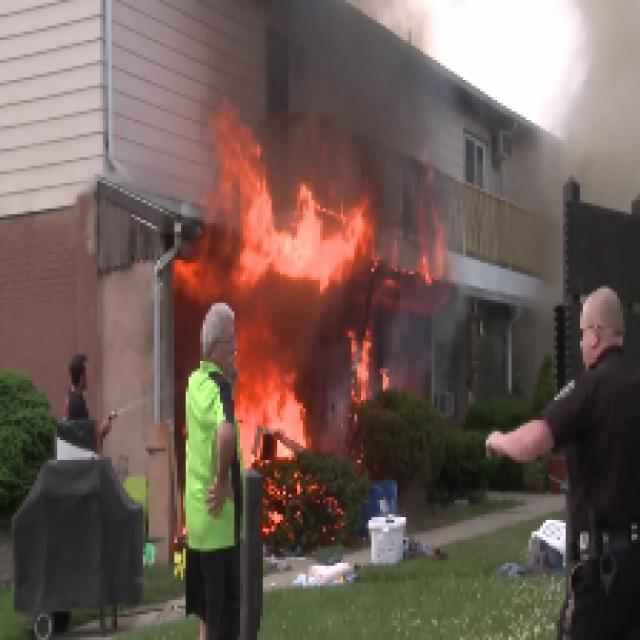Fire: (143, 68, 463, 566)
Smoke: (340, 0, 640, 226)
